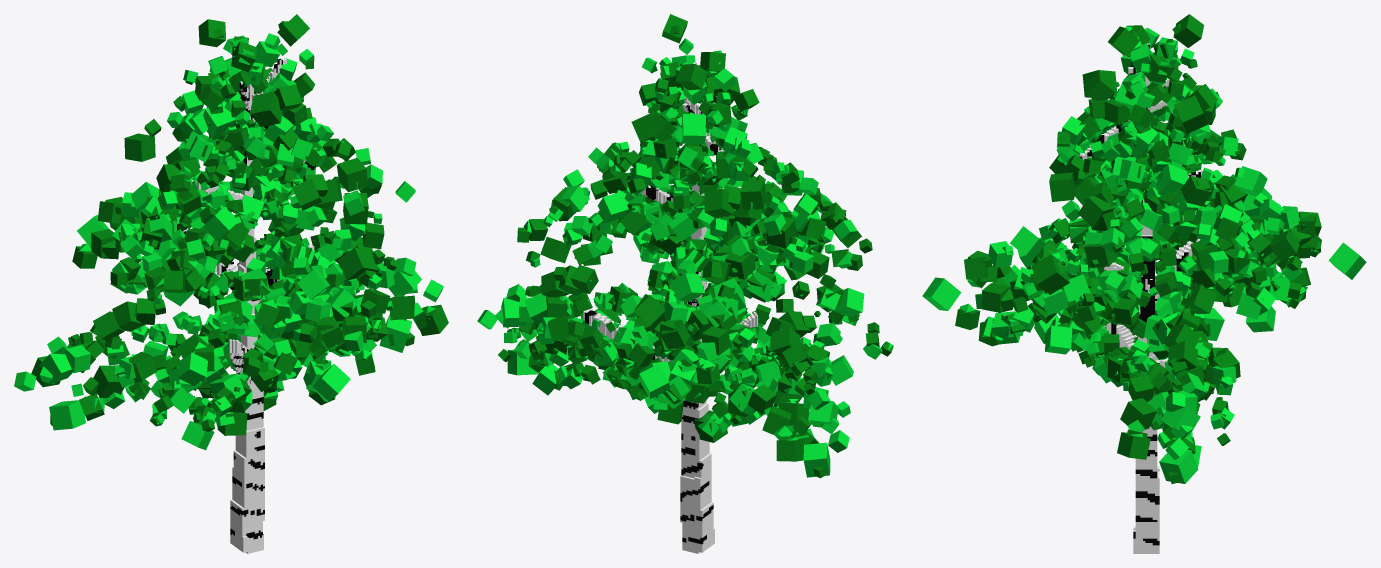
The model's file is воксель  берёза.dae.
3 renders of one model, left to right at view 1: azimuth 30°, elevation 25°; view 2: azimuth 150°, elevation 25°; view 3: azimuth 270°, elevation 25°, orthographic. The views are drawn at different scales.
Parts seen in each view (by area): view 1: Плоскость.001; view 2: Плоскость.001; view 3: Плоскость.001.
Part boxes in pixels (x1,y1,x2,y2): Плоскость.001: (14,14,448,553); Плоскость.001: (477,14,893,553); Плоскость.001: (922,14,1366,553).
Bounding box in the file's own units: 4.85 × 4.55 × 6.1.
